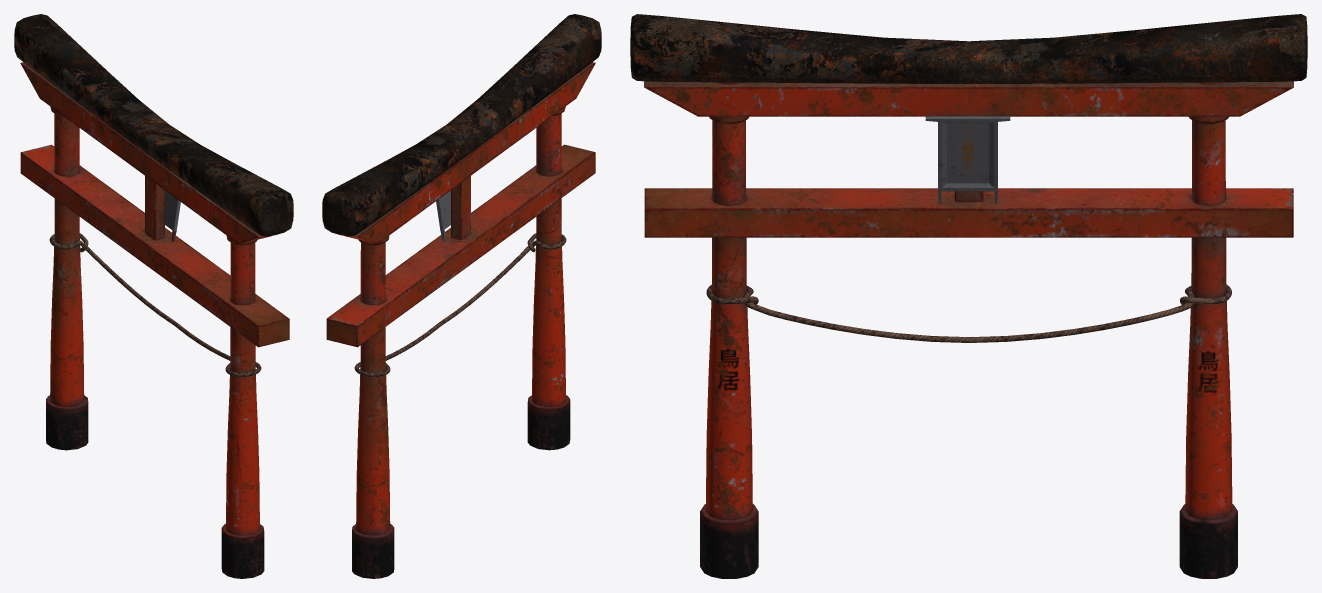
The model's file is rusted_japanese_torii_gates.glb.
3 renders of one model, left to right at view 1: azimuth 30°, elevation 25°; view 2: azimuth 150°, elevation 25°; view 3: azimuth 270°, elevation 25°, orthographic. The views are drawn at different scales.
Parts seen in each view (by area): view 1: Cube.001, Cube_13, rope, Cube; view 2: Cube.001, Cube_13, rope, Cube; view 3: Cube.001, Cube_13, Cube, rope.
Part boxes in pixels (<box>): Cube.001: <box>20,62,289,578</box>; Cube_13: <box>14,14,293,236</box>; rope: <box>49,233,261,376</box>; Cube: <box>165,190,180,241</box>; Cube.001: <box>326,62,595,578</box>; Cube_13: <box>322,14,601,236</box>; rope: <box>354,233,566,376</box>; Cube: <box>436,190,450,241</box>; Cube.001: <box>644,81,1293,578</box>; Cube_13: <box>630,14,1307,83</box>; Cube: <box>925,116,1010,203</box>; rope: <box>706,284,1231,342</box>.
Size of the model in its own units: 0.9234 by 8.45 by 9.48.
3 materials, 3 textured.
